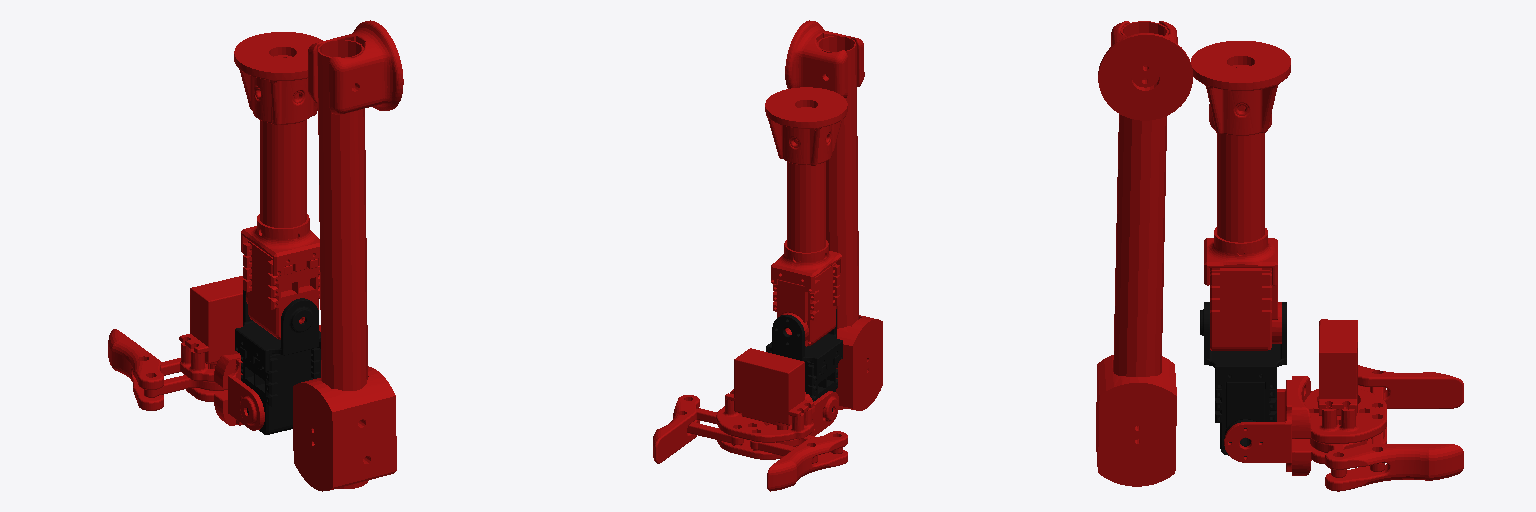
The robot description file, URDF, robot "dof_fit":
<?xml version="1.0" encoding="utf-8" ?>
<robot name="dof_fit">
    <link name="dummy" />
    <link name="base_link">
        
<inertial>
            <origin xyz="-5.0171E-05 0.00010703 0.043587" rpy="0 0 0" />
            <mass value="1.1091" />
            <inertia ixx="0.0011281" ixy="-4.5611E-07" ixz="-6.71E-07" iyy="0.0011096" iyz="-2.9908E-07" izz="0.0018749" />
        </inertial>

        <visual>
            <origin xyz="0 0 0" rpy="0 0 0" />
            <geometry>
                <mesh filename="package://dof_fit/meshes/base_link.STL" />
            </geometry>
            <material name="">
                <color rgba="0.69412 0.098039 0.098039 1" />
            </material>
        </visual>
        <collision>
            <origin xyz="0 0 0" rpy="0 0 0" />
            <geometry>
                <mesh filename="package://dof_fit/meshes/base_link.STL" />
            </geometry>
        </collision>
    </link>
    <joint name="dummy_joint" type="fixed">
        <parent link="dummy" />
        <child link="base_link" />
    </joint>
    <link name="Link_1">
        
<inertial>
            <origin xyz="-0.0439423990536337 0.000602856371571715 0.000121144358782827" rpy="0 0 0" />
            <mass value="1.72546943709083" />
            <inertia ixx="0.000555908221091426" ixy="-1.46554597692578E-06" ixz="8.46437587472299E-08" iyy="0.000778122191766057" iyz="-5.16254437826682E-06" izz="0.000623023265234466" />
        </inertial>

        <visual>
            <origin xyz="0 0 0" rpy="0 0 0" />
            <geometry>
                <mesh filename="package://dof_fit/meshes/Link_1.STL" />
            </geometry>
            <material name="">
                <color rgba="0.694117647058824 0.0980392156862745 0.0980392156862745 1" />
            </material>
        </visual>
        <collision>
            <origin xyz="0 0 0" rpy="0 0 0" />
            <geometry>
                <mesh filename="package://dof_fit/meshes/Link_1.STL" />
            </geometry>
        </collision>
    </link>
    <joint name="Joint_1" type="revolute">
        <origin xyz="0 0 0.104" rpy="1.5708 1.5708 0" />
        <parent link="base_link" />
        <child link="Link_1" />
        <axis xyz="-1 0 0" />
        <limit lower="-1.5707" upper="1.5707" effort="5" velocity="1" />
    </joint>
    <link name="Link_2">
        
<inertial>
            <origin xyz="0.0685680762868854 0.000599984307954203 0.0258674459321705" rpy="0 0 0" />
            <mass value="0.211773012523455" />
            <inertia ixx="5.08010498198532E-05" ixy="-3.30977561073865E-06" ixz="-6.23987755766645E-06" iyy="0.000226386199188006" iyz="-4.52073993406769E-07" izz="0.000237485881547953" />
        </inertial>

        <visual>
            <origin xyz="0 0 0" rpy="0 0 0" />
            <geometry>
                <mesh filename="package://dof_fit/meshes/Link_2.STL" />
            </geometry>
            <material name="">
                <color rgba="0.694117647058824 0.0980392156862745 0.0980392156862745 1" />
            </material>
        </visual>
        <collision>
            <origin xyz="0 0 0" rpy="0 0 0" />
            <geometry>
                <mesh filename="package://dof_fit/meshes/Link_2.STL" />
            </geometry>
        </collision>
    </link>
    <joint name="Joint_2" type="revolute">
        <origin xyz="-0.046 0.028987 -0.00085654" rpy="-1.5708 0 3.1416" />
        <parent link="Link_1" />
        <child link="Link_2" />
        <axis xyz="0 0 1" />
        <limit lower="-1.5707" upper="1.5707" effort="5" velocity="1" />
    </joint>
    <link name="Link_3">
        
<inertial>
            <origin xyz="-0.0256503139904983 0.0264730871404752 -0.00364498798136229" rpy="0 0 0" />
            <mass value="1.30147505439002" />
            <inertia ixx="0.00038258642934127" ixy="-1.42359640823949E-06" ixz="-4.52202117042666E-05" iyy="0.00040436684855594" iyz="6.83475965893099E-07" izz="0.000379491920992587" />
        </inertial>

        <visual>
            <origin xyz="0 0 0" rpy="0 0 0" />
            <geometry>
                <mesh filename="package://dof_fit/meshes/Link_3.STL" />
            </geometry>
            <material name="">
                <color rgba="0.694117647058824 0.0980392156862745 0.0980392156862745 1" />
            </material>
        </visual>
        <collision>
            <origin xyz="0 0 0" rpy="0 0 0" />
            <geometry>
                <mesh filename="package://dof_fit/meshes/Link_3.STL" />
            </geometry>
        </collision>
    </link>
    <joint name="Joint_3" type="revolute">
        <origin xyz="0.20497 0.0038029 0.0092964" rpy="-1.5917 0.020887 -2.3564" />
        <parent link="Link_2" />
        <child link="Link_3" />
        <axis xyz="0 1 0" />
        <limit lower="0" upper="1.5" effort="5" velocity="1" />
    </joint>
    <link name="Link_4">
        
<inertial>
            <origin xyz="0.000313197531303759 -0.0570886170653447 -0.000296558806608768" rpy="0 0 0" />
            <mass value="0.129521630593046" />
            <inertia ixx="4.02638425978193E-05" ixy="6.01302431003278E-08" ixz="1.42139051669161E-06" iyy="2.73932044730563E-05" iyz="-5.98737231599718E-08" izz="4.04501029424382E-05" />
        </inertial>

        <visual>
            <origin xyz="0 0 0" rpy="0 0 0" />
            <geometry>
                <mesh filename="package://dof_fit/meshes/Link_4.STL" />
            </geometry>
            <material name="">
                <color rgba="0.694117647058824 0.0980392156862745 0.0980392156862745 1" />
            </material>
        </visual>
        <collision>
            <origin xyz="0 0 0" rpy="0 0 0" />
            <geometry>
                <mesh filename="package://dof_fit/meshes/Link_4.STL" />
            </geometry>
        </collision>
    </link>
    <joint name="Joint_4" type="revolute">
        <origin xyz="-0.024685 -0.02479 -0.046026" rpy="0.95696 0.5256 2.1896" />
        <parent link="Link_3" />
        <child link="Link_4" />
        <axis xyz="0 1 0" />
        <limit lower="-1.5707" upper="1.5707" effort="5" velocity="1" />
    </joint>
    <link name="Link_5">
        
<inertial>
            <origin xyz="-0.00237077624161524 0.0352772248958467 0.000934761543790939" rpy="0 0 0" />
            <mass value="0.0631352356217759" />
            <inertia ixx="1.64938615608914E-05" ixy="6.91909654955854E-08" ixz="3.47216212826657E-10" iyy="1.35821446818582E-05" iyz="-8.02328780877477E-08" izz="1.66352804228886E-05" />
        </inertial>

        <visual>
            <origin xyz="0 0 0" rpy="0 0 0" />
            <geometry>
                <mesh filename="package://dof_fit/meshes/Link_5.STL" />
            </geometry>
            <material name="">
                <color rgba="0.101960784313725 0.101960784313725 0.101960784313725 1" />
            </material>
        </visual>
        <collision>
            <origin xyz="0 0 0" rpy="0 0 0" />
            <geometry>
                <mesh filename="package://dof_fit/meshes/Link_5.STL" />
            </geometry>
        </collision>
    </link>
    <joint name="Joint_5" type="revolute">
        <origin xyz="0 -0.1385 0" rpy="-0.001344 -0.75239 3.1416" />
        <parent link="Link_4" />
        <child link="Link_5" />
        <axis xyz="-1 0 0" />
        <limit lower="-1.5707" upper="1.5707" effort="5" velocity="1" />
    </joint>
    <link name="Link_6">
        
<inertial>
            <origin xyz="-0.00859625543246861 0.0405127544320565 0.00139619595223389" rpy="0 0 0" />
            <mass value="0.115625997191069" />
            <inertia ixx="4.24057109975732E-05" ixy="1.38491765544162E-07" ixz="-7.10598502810795E-09" iyy="3.30267705750942E-05" iyz="-4.96861663871509E-08" izz="2.21813086048847E-05" />
        </inertial>

        <visual>
            <origin xyz="0 0 0" rpy="0 0 0" />
            <geometry>
                <mesh filename="package://dof_fit/meshes/Link_6.STL" />
            </geometry>
            <material name="">
                <color rgba="0.694117647058824 0.0980392156862745 0.0980392156862745 1" />
            </material>
        </visual>
        <collision>
            <origin xyz="0 0 0" rpy="0 0 0" />
            <geometry>
                <mesh filename="package://dof_fit/meshes/Link_6.STL" />
            </geometry>
        </collision>
    </link>
    <joint name="Joint_6" type="revolute">
        <origin xyz="-0.00245 0.0575 7.7278E-05" rpy="0 -0.001344 1.5708" />
        <parent link="Link_5" />
        <child link="Link_6" />
        <axis xyz="0 0 1" />
        <limit lower="-3.1414" upper="0" effort="5" velocity="1" />
    </joint>
    <link name="Gripper_Idol_Gear">
        
<inertial>
            <origin xyz="-0.00645264153794536 1.2888806133482E-09 0.000406652747912711" rpy="0 0 0" />
            <mass value="0.0106531788318515" />
            <inertia ixx="4.88532798255261E-07" ixy="8.46082945323822E-14" ixz="-4.16495427516113E-08" iyy="2.46502258006767E-06" iyz="7.20204319128E-14" izz="2.03881076796993E-06" />
        </inertial>

        <visual>
            <origin xyz="0 0 0" rpy="0 0 0" />
            <geometry>
                <mesh filename="package://dof_fit/meshes/Gripper_Idol_Gear.STL" />
            </geometry>
            <material name="">
                <color rgba="0.694117647058824 0.0980392156862745 0.0980392156862745 1" />
            </material>
        </visual>
        <collision>
            <origin xyz="0 0 0" rpy="0 0 0" />
            <geometry>
                <mesh filename="package://dof_fit/meshes/Gripper_Idol_Gear.STL" />
            </geometry>
        </collision>
    </link>
    <joint name="Gripper_Idol_Gear_Joint" type="revolute">
        <origin xyz="0 0.048 0.01645" rpy="1.5708 1.5708 0" />
        <parent link="Link_6" />
        <child link="Gripper_Idol_Gear" />
        <axis xyz="0 1 0" />
        <limit lower="-1.5707" upper="0" effort="5" velocity="1" />
    </joint>
    <link name="Tip_Gripper_Idol">
        
<inertial>
            <origin xyz="0.0283088813853639 0.000252430460343372 0.0070058575409696" rpy="0 0 0" />
            <mass value="0.0223383129432979" />
            <inertia ixx="1.20060918495953E-06" ixy="9.40667187925121E-10" ixz="-1.3074260850099E-06" iyy="8.52850293234169E-06" iyz="2.04974269309147E-10" izz="8.68035962011853E-06" />
        </inertial>

        <visual>
            <origin xyz="0 0 0" rpy="0 0 0" />
            <geometry>
                <mesh filename="package://dof_fit/meshes/Tip_Gripper_Idol.STL" />
            </geometry>
            <material name="">
                <color rgba="0.694117647058824 0.0980392156862745 0.0980392156862745 1" />
            </material>
        </visual>
        <collision>
            <origin xyz="0 0 0" rpy="0 0 0" />
            <geometry>
                <mesh filename="package://dof_fit/meshes/Tip_Gripper_Idol.STL" />
            </geometry>
        </collision>
    </link>
    <joint name="Tip_Gripper_Idol_Joint" type="revolute">
        <origin xyz="-0.04 0 0" rpy="0 1.5708 0" />
        <parent link="Gripper_Idol_Gear" />
        <child link="Tip_Gripper_Idol" />
        <axis xyz="0 1 0" />
        <limit lower="-1.5" upper="0" effort="5" velocity="1" />
        <mimic joint="Gripper_Idol_Gear_Joint" multiplier="-1" offset="0" />
    </joint>
    <link name="Gripper_Servo_Gear">
        
<inertial>
            <origin xyz="-0.00659446521753219 5.68561578928595E-08 -0.000395277758091589" rpy="0 0 0" />
            <mass value="0.0103877852418143" />
            <inertia ixx="4.85661536277939E-07" ixy="-5.6178873772505E-12" ixz="3.58267516543681E-08" iyy="2.44996035793358E-06" iyz="-4.05817638743612E-12" izz="2.02505835231068E-06" />
        </inertial>

        <visual>
            <origin xyz="0 0 0" rpy="0 0 0" />
            <geometry>
                <mesh filename="package://dof_fit/meshes/Gripper_Servo_Gear.STL" />
            </geometry>
            <material name="">
                <color rgba="0.694117647058824 0.0980392156862745 0.0980392156862745 1" />
            </material>
        </visual>
        <collision>
            <origin xyz="0 0 0" rpy="0 0 0" />
            <geometry>
                <mesh filename="package://dof_fit/meshes/Gripper_Servo_Gear.STL" />
            </geometry>
        </collision>
    </link>
    <joint name="Gripper_Servo_Gear_Joint" type="revolute">
        <origin xyz="0 0.048 -0.01155" rpy="0 -1.5654 -1.5708" />
        <parent link="Link_6" />
        <child link="Gripper_Servo_Gear" />
        <axis xyz="0 1 0" />
        <limit lower="0" upper="1.5707" effort="5" velocity="1" />
    </joint>
    <link name="Tip_Gripper_Servo">
        
<inertial>
            <origin xyz="0.0283088936740149 -0.000252391223208054 0.00700586590604133" rpy="0 0 0" />
            <mass value="0.0223382858569993" />
            <inertia ixx="1.20060685488941E-06" ixy="-9.22618006784907E-10" ixz="-1.30742386656302E-06" iyy="8.52849811219307E-06" iyz="-1.62594005761941E-10" izz="8.68035533802863E-06" />
        </inertial>

        <visual>
            <origin xyz="0 0 0" rpy="0 0 0" />
            <geometry>
                <mesh filename="package://dof_fit/meshes/Tip_Gripper_Servo.STL" />
            </geometry>
            <material name="">
                <color rgba="0.694117647058824 0.0980392156862745 0.0980392156862745 1" />
            </material>
        </visual>
        <collision>
            <origin xyz="0 0 0" rpy="0 0 0" />
            <geometry>
                <mesh filename="package://dof_fit/meshes/Tip_Gripper_Servo.STL" />
            </geometry>
        </collision>
    </link>
    <joint name="Tip_Gripper_Servo_Joint" type="revolute">
        <origin xyz="-0.04 0 0" rpy="0 -1.5654 -3.1416" />
        <parent link="Gripper_Servo_Gear" />
        <child link="Tip_Gripper_Servo" />
        <axis xyz="0 -1 0" />
        <limit lower="0" upper="1.3" effort="5" velocity="1" />
        <mimic joint="Gripper_Servo_Gear_Joint" multiplier="-1" offset="0" />
    </joint>
    <link name="Pivot_Arm_gripper_Servo">
        
<inertial>
            <origin xyz="-0.0199999999999479 -1.02834407655905E-13 -1.21208598713451E-13" rpy="0 0 0" />
            <mass value="0.00355645530062258" />
            <inertia ixx="2.23718203237377E-08" ixy="1.6939537525642E-21" ixz="-1.60524737623572E-23" iyy="6.61682654190112E-07" iyz="6.26141959371149E-22" izz="6.59724388878559E-07" />
        </inertial>

        <visual>
            <origin xyz="0 0 0" rpy="0 0 0" />
            <geometry>
                <mesh filename="package://dof_fit/meshes/Pivot_Arm_gripper_Servo.STL" />
            </geometry>
            <material name="">
                <color rgba="0.694117647058824 0.0980392156862745 0.0980392156862745 1" />
            </material>
        </visual>
        <collision>
            <origin xyz="0 0 0" rpy="0 0 0" />
            <geometry>
                <mesh filename="package://dof_fit/meshes/Pivot_Arm_gripper_Servo.STL" />
            </geometry>
        </collision>
    </link>
    <joint name="Pivot_Arm_Gripper_Servo_Joint" type="revolute">
        <origin xyz="0 0.068 -0.00455" rpy="3.1416 -1.5654 -1.5708" />
        <parent link="Link_6" />
        <child link="Pivot_Arm_gripper_Servo" />
        <axis xyz="0 -1 0" />
        <limit lower="-1.5707" upper="1.5707" effort="5" velocity="1" />
        <mimic joint="Gripper_Servo_Gear_Joint" multiplier="1" offset="0" />
    </joint>
    <link name="Pivot_Arm_Gripper_Idol">
        
<inertial>
            <origin xyz="0.0240001434028309 2.66453525910038E-15 -5.35540477596824E-05" rpy="0 0 0" />
            <mass value="0.00355645530062257" />
            <inertia ixx="2.23718203237376E-08" ixy="3.74867317472531E-24" ixz="8.16759648830381E-24" iyy="6.61682654190112E-07" iyz="5.50445026314332E-23" izz="6.59724388878558E-07" />
        </inertial>

        <visual>
            <origin xyz="0 0 0" rpy="0 0 0" />
            <geometry>
                <mesh filename="package://dof_fit/meshes/Pivot_Arm_Gripper_Idol.STL" />
            </geometry>
            <material name="">
                <color rgba="0.694117647058824 0.0980392156862745 0.0980392156862745 1" />
            </material>
        </visual>
        <collision>
            <origin xyz="0 0 0" rpy="0 0 0" />
            <geometry>
                <mesh filename="package://dof_fit/meshes/Pivot_Arm_Gripper_Idol.STL" />
            </geometry>
        </collision>
    </link>
    <joint name="Pivot_Arm_Gripper_Idol_Joint" type="revolute">
        <origin xyz="0 0.067946 0.0054499" rpy="1.5708 -1.5708 0" />
        <parent link="Link_6" />
        <child link="Pivot_Arm_Gripper_Idol" />
        <axis xyz="0 -1 0" />
        <limit lower="0" upper="1.5707" effort="5" velocity="1" />
        <mimic joint="Gripper_Idol_Gear_Joint" multiplier="1" offset="0" />
    </joint>
    
<transmission name="trans_Joint_1">
        <type>transmission_interface/SimpleTransmission</type>
        <joint name="Joint_1">
            <hardwareInterface>hardware_interface/EffortJointInterface</hardwareInterface>
        </joint>
        <actuator name="Joint_1_motor">
            <hardwareInterface>hardware_interface/EffortJointInterface</hardwareInterface>
            <mechanicalReduction>1</mechanicalReduction>
        </actuator>
    </transmission>
    <transmission name="trans_Joint_2">
        <type>transmission_interface/SimpleTransmission</type>
        <joint name="Joint_2">
            <hardwareInterface>hardware_interface/EffortJointInterface</hardwareInterface>
        </joint>
        <actuator name="Joint_2_motor">
            <hardwareInterface>hardware_interface/EffortJointInterface</hardwareInterface>
            <mechanicalReduction>1</mechanicalReduction>
        </actuator>
    </transmission>
    <transmission name="trans_Joint_3">
        <type>transmission_interface/SimpleTransmission</type>
        <joint name="Joint_3">
            <hardwareInterface>hardware_interface/EffortJointInterface</hardwareInterface>
        </joint>
        <actuator name="Joint_3_motor">
            <hardwareInterface>hardware_interface/EffortJointInterface</hardwareInterface>
            <mechanicalReduction>1</mechanicalReduction>
        </actuator>
    </transmission>
    <transmission name="trans_Joint_4">
        <type>transmission_interface/SimpleTransmission</type>
        <joint name="Joint_4">
            <hardwareInterface>hardware_interface/EffortJointInterface</hardwareInterface>
        </joint>
        <actuator name="Joint_4_motor">
            <hardwareInterface>hardware_interface/EffortJointInterface</hardwareInterface>
            <mechanicalReduction>1</mechanicalReduction>
        </actuator>
    </transmission>
    <transmission name="trans_Joint_5">
        <type>transmission_interface/SimpleTransmission</type>
        <joint name="Joint_5">
            <hardwareInterface>hardware_interface/EffortJointInterface</hardwareInterface>
        </joint>
        <actuator name="Joint_5_motor">
            <hardwareInterface>hardware_interface/EffortJointInterface</hardwareInterface>
            <mechanicalReduction>1</mechanicalReduction>
        </actuator>
    </transmission>
    <transmission name="trans_Joint_6">
        <type>transmission_interface/SimpleTransmission</type>
        <joint name="Joint_6">
            <hardwareInterface>hardware_interface/EffortJointInterface</hardwareInterface>
        </joint>
        <actuator name="Joint_6_motor">
            <hardwareInterface>hardware_interface/EffortJointInterface</hardwareInterface>
            <mechanicalReduction>1</mechanicalReduction>
        </actuator>
    </transmission>
    <transmission name="trans_Gripper_Idol_Gear_Joint">
        <type>transmission_interface/SimpleTransmission</type>
        <joint name="Gripper_Idol_Gear_Joint">
            <hardwareInterface>hardware_interface/EffortJointInterface</hardwareInterface>
        </joint>
        <actuator name="Gripper_Idol_Gear_Joint_motor">
            <hardwareInterface>hardware_interface/EffortJointInterface</hardwareInterface>
            <mechanicalReduction>1</mechanicalReduction>
        </actuator>
    </transmission>
    <transmission name="trans_Tip_Gripper_Idol_Joint">
        <type>transmission_interface/SimpleTransmission</type>
        <joint name="Tip_Gripper_Idol_Joint">
            <hardwareInterface>hardware_interface/EffortJointInterface</hardwareInterface>
        </joint>
        <actuator name="Tip_Gripper_Idol_Joint_motor">
            <hardwareInterface>hardware_interface/EffortJointInterface</hardwareInterface>
            <mechanicalReduction>1</mechanicalReduction>
        </actuator>
    </transmission>
    <transmission name="trans_Gripper_Servo_Gear_Joint">
        <type>transmission_interface/SimpleTransmission</type>
        <joint name="Gripper_Servo_Gear_Joint">
            <hardwareInterface>hardware_interface/EffortJointInterface</hardwareInterface>
        </joint>
        <actuator name="Gripper_Servo_Gear_Joint_motor">
            <hardwareInterface>hardware_interface/EffortJointInterface</hardwareInterface>
            <mechanicalReduction>1</mechanicalReduction>
        </actuator>
    </transmission>
    <transmission name="trans_Tip_Gripper_Servo_Joint">
        <type>transmission_interface/SimpleTransmission</type>
        <joint name="Tip_Gripper_Servo_Joint">
            <hardwareInterface>hardware_interface/EffortJointInterface</hardwareInterface>
        </joint>
        <actuator name="Tip_Gripper_Servo_Joint_motor">
            <hardwareInterface>hardware_interface/EffortJointInterface</hardwareInterface>
            <mechanicalReduction>1</mechanicalReduction>
        </actuator>
    </transmission>
    <transmission name="trans_Pivot_Arm_Gripper_Servo_Joint">
        <type>transmission_interface/SimpleTransmission</type>
        <joint name="Pivot_Arm_Gripper_Servo_Joint">
            <hardwareInterface>hardware_interface/EffortJointInterface</hardwareInterface>
        </joint>
        <actuator name="Pivot_Arm_Gripper_Servo_Joint_motor">
            <hardwareInterface>hardware_interface/EffortJointInterface</hardwareInterface>
            <mechanicalReduction>1</mechanicalReduction>
        </actuator>
    </transmission>
    <transmission name="trans_Pivot_Arm_Gripper_Idol_Joint">
        <type>transmission_interface/SimpleTransmission</type>
        <joint name="Pivot_Arm_Gripper_Idol_Joint">
            <hardwareInterface>hardware_interface/EffortJointInterface</hardwareInterface>
        </joint>
        <actuator name="Pivot_Arm_Gripper_Idol_Joint_motor">
            <hardwareInterface>hardware_interface/EffortJointInterface</hardwareInterface>
            <mechanicalReduction>1</mechanicalReduction>
        </actuator>
    </transmission>
    <gazebo>
        <plugin name="gazebo_ros_control" filename="libgazebo_ros_control.so">
            <robotNamespace>/</robotNamespace>
        </plugin>
    </gazebo>
</robot>

--- Facts derived from the render (not from the file) ---
The picture shows the robot from 3 angles, left to right: view 1: azimuth 30°, elevation 25°; view 2: azimuth 150°, elevation 25°; view 3: azimuth 270°, elevation 25°; orthographic projection.
Model dof_fit with 14 links and 13 joints (12 revolute, 1 fixed), rooted at dummy, posed every joint at zero.
Links seen in each view (by area): view 1: Link_2, Link_4, Link_6, Link_5, Tip_Gripper_Servo, Gripper_Servo_Gear; view 2: Link_2, Link_4, Link_6, Link_5, Tip_Gripper_Servo, Tip_Gripper_Idol, Pivot_Arm_Gripper_Idol; view 3: Link_2, Link_4, Link_6, Link_5, Tip_Gripper_Idol, Tip_Gripper_Servo.
Link boxes in pixels (x1,y1,x2,y2): Link_2: [293, 20, 403, 491]; Link_4: [234, 32, 322, 339]; Link_6: [179, 276, 264, 430]; Link_5: [235, 290, 320, 434]; Tip_Gripper_Servo: [108, 329, 163, 410]; Gripper_Servo_Gear: [144, 363, 227, 397]; Link_2: [785, 20, 882, 410]; Link_4: [765, 87, 847, 346]; Link_6: [716, 348, 838, 459]; Link_5: [766, 309, 842, 411]; Tip_Gripper_Servo: [767, 431, 847, 491]; Tip_Gripper_Idol: [653, 395, 699, 463]; Pivot_Arm_Gripper_Idol: [687, 422, 743, 444]; Link_2: [1096, 21, 1192, 486]; Link_4: [1191, 41, 1290, 350]; Link_6: [1224, 319, 1386, 475]; Link_5: [1200, 302, 1286, 456]; Tip_Gripper_Idol: [1325, 444, 1463, 491]; Tip_Gripper_Servo: [1358, 365, 1463, 408].
Bounding box of the posed robot: 0.122 × 0.1901 × 0.2593 m (x, y, z).
10 mesh visuals loaded from 13 distinct referenced files (10 binary STL); not drawn: 3 (reference not matched to a file when rendering).
